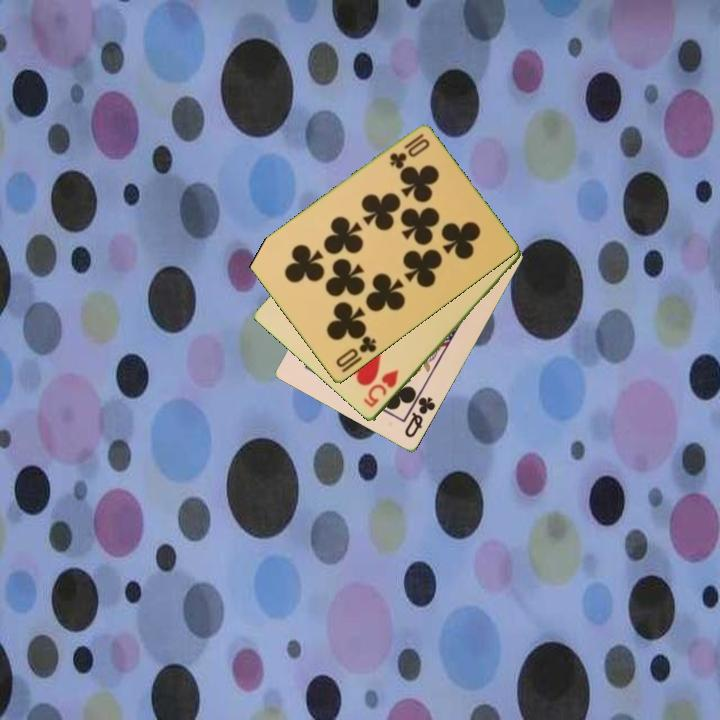10c: (332, 332, 379, 371), (386, 130, 427, 172)
5h: (360, 367, 402, 411)
Qc: (401, 388, 439, 441)
